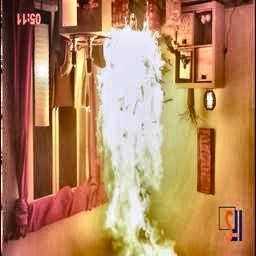fire: (89, 20, 189, 253)
